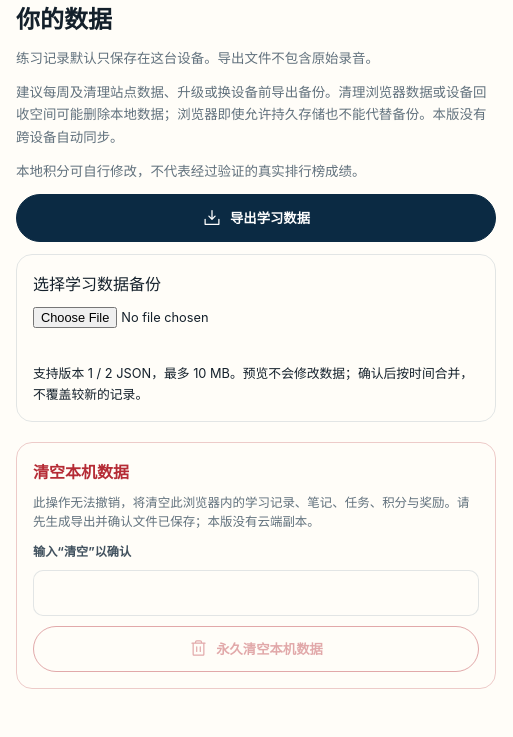
Test: DataControls › does not claim deletion succeeded when storage rejects the request
Type "清空" into the field labelled "输入“清空”以确认" at x=256, y=593, box [33,570,479,616]
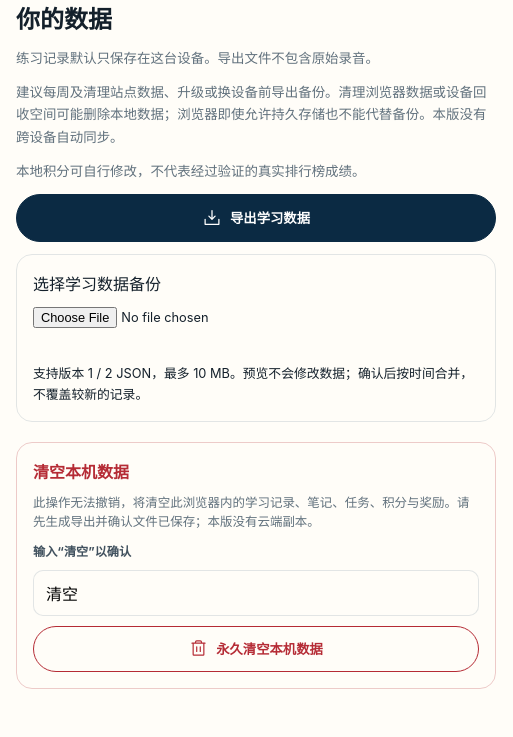
Click the button "永久清空本机数据" at x=256, y=649, box [33,626,479,672]
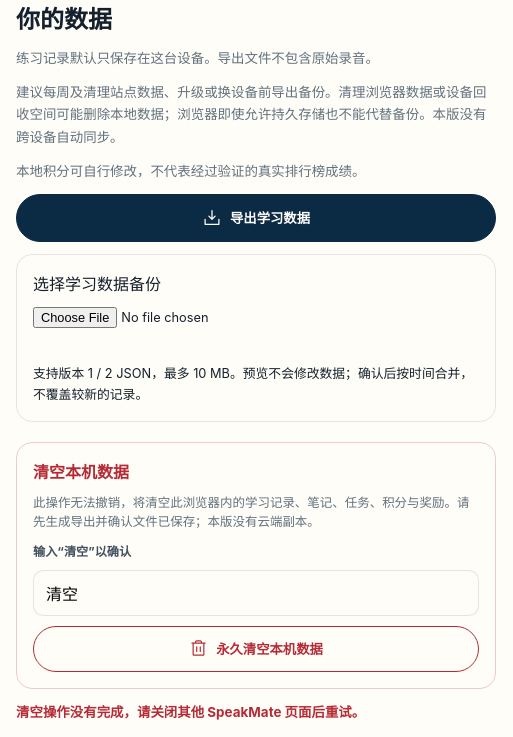
Now the message shows "没有完成", box [16,704,365,720]
